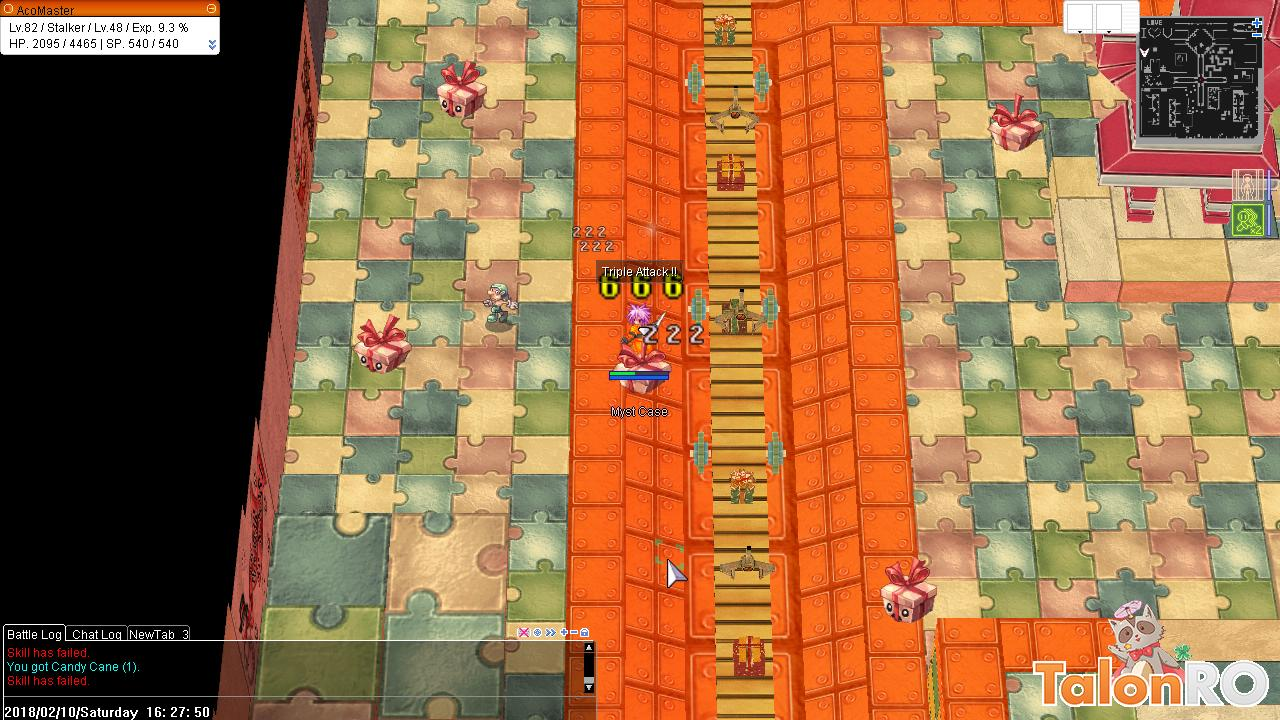myst_case: (347, 310, 413, 379), (877, 552, 939, 625), (986, 91, 1046, 158), (435, 54, 490, 125), (605, 343, 677, 392)
